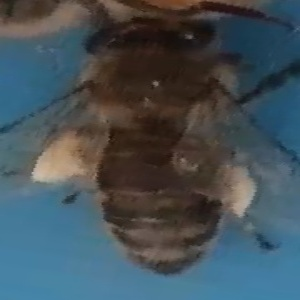bee: (42, 18, 283, 277)
